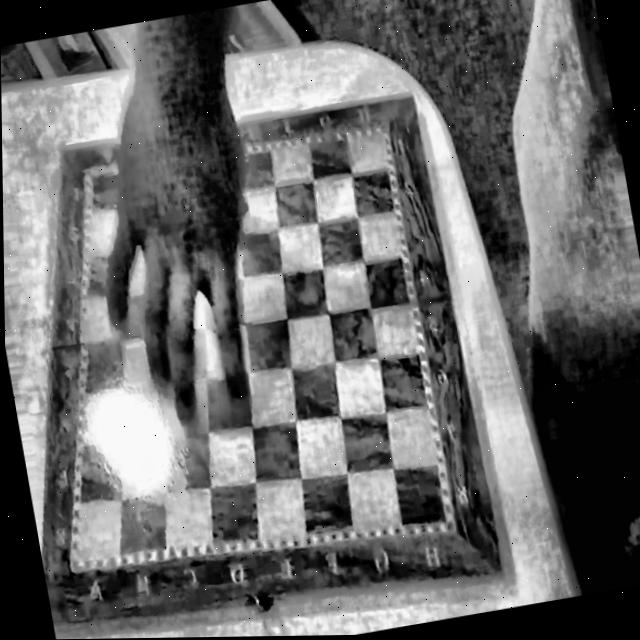chessboard: (74, 124, 451, 566)
p1: (81, 165, 95, 182)
p2: (64, 554, 83, 578)
p3: (442, 515, 459, 535)
p4: (381, 117, 395, 135)
